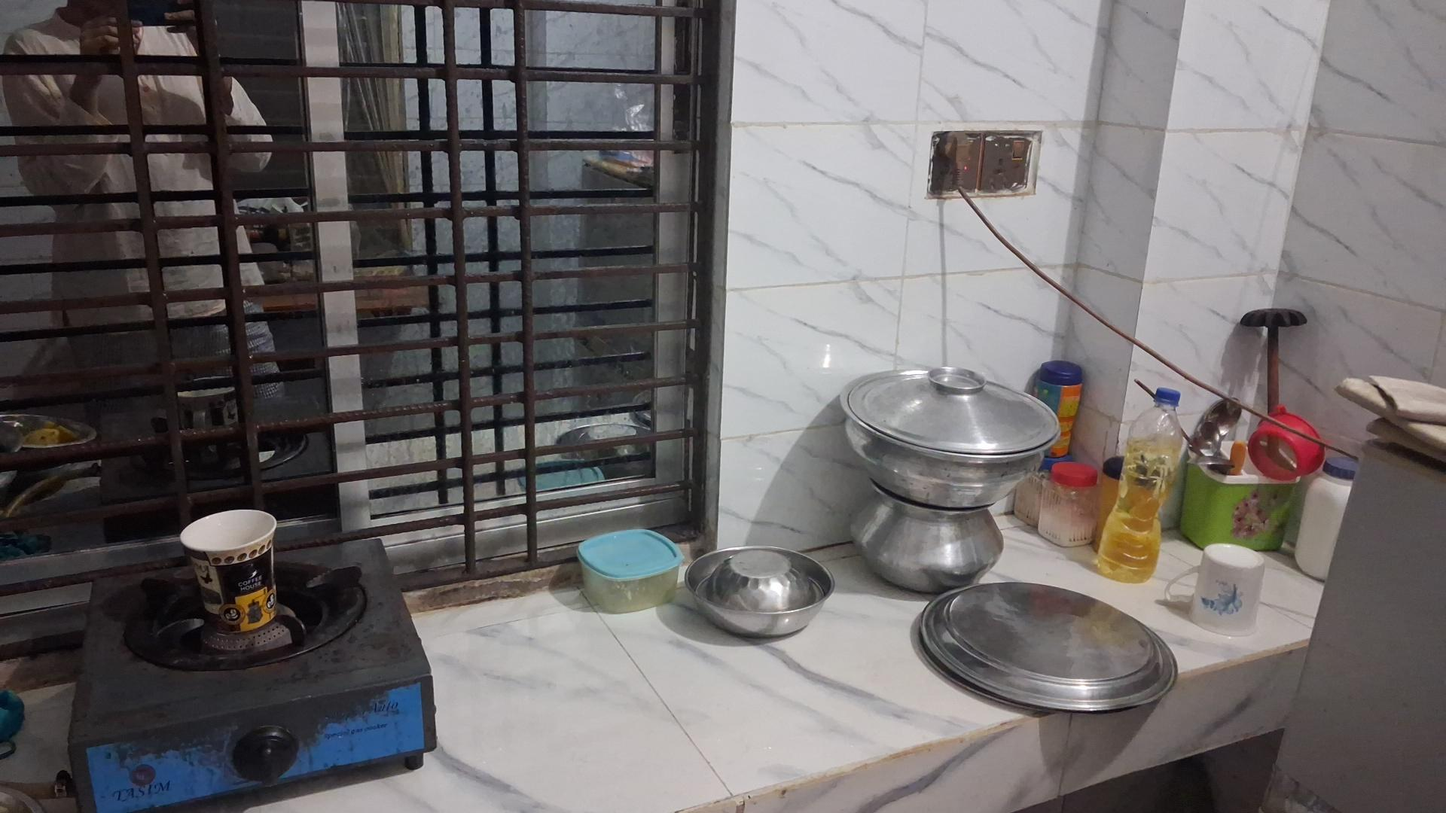Bottle: (1095, 387, 1188, 579)
Bowl: (683, 545, 835, 639)
Cup: (180, 509, 278, 639), (1189, 542, 1267, 637)
Jar: (577, 527, 685, 613), (1299, 455, 1350, 574), (1045, 460, 1094, 553)
Plate: (918, 571, 1185, 721)
Pot: (839, 367, 1063, 517), (866, 497, 1003, 590)
